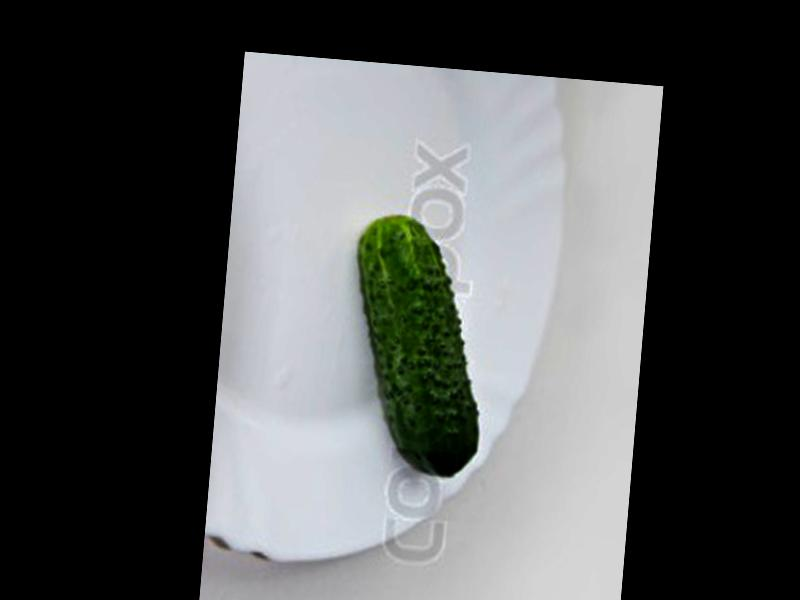Cucumber: (340, 214, 495, 476)
